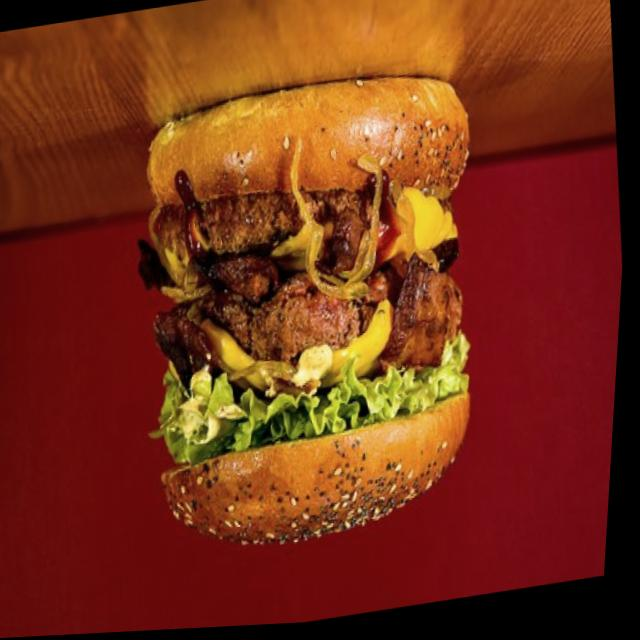burger: (117, 66, 515, 570)
